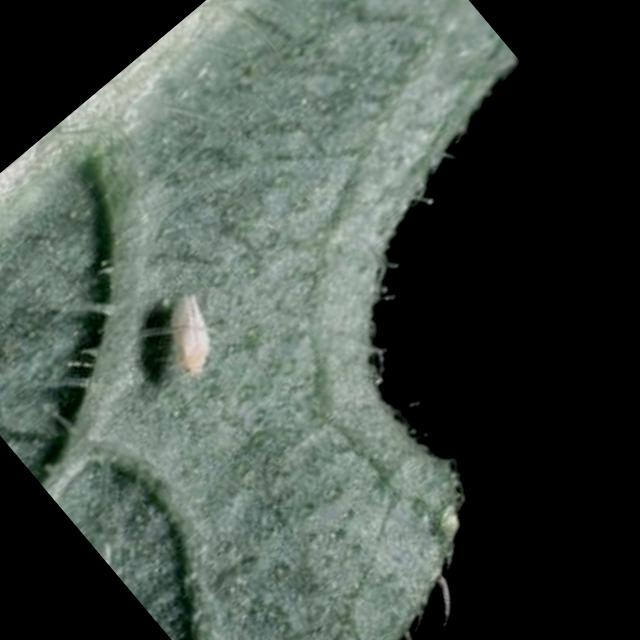Silverleaf whitefly: (71, 210, 296, 437)
